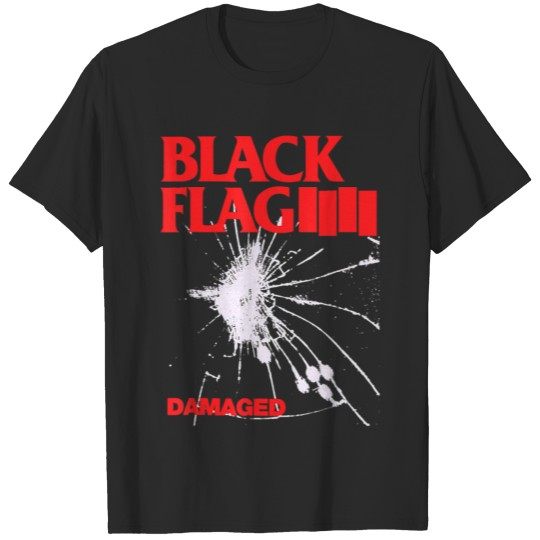design: (159, 133, 383, 429)
